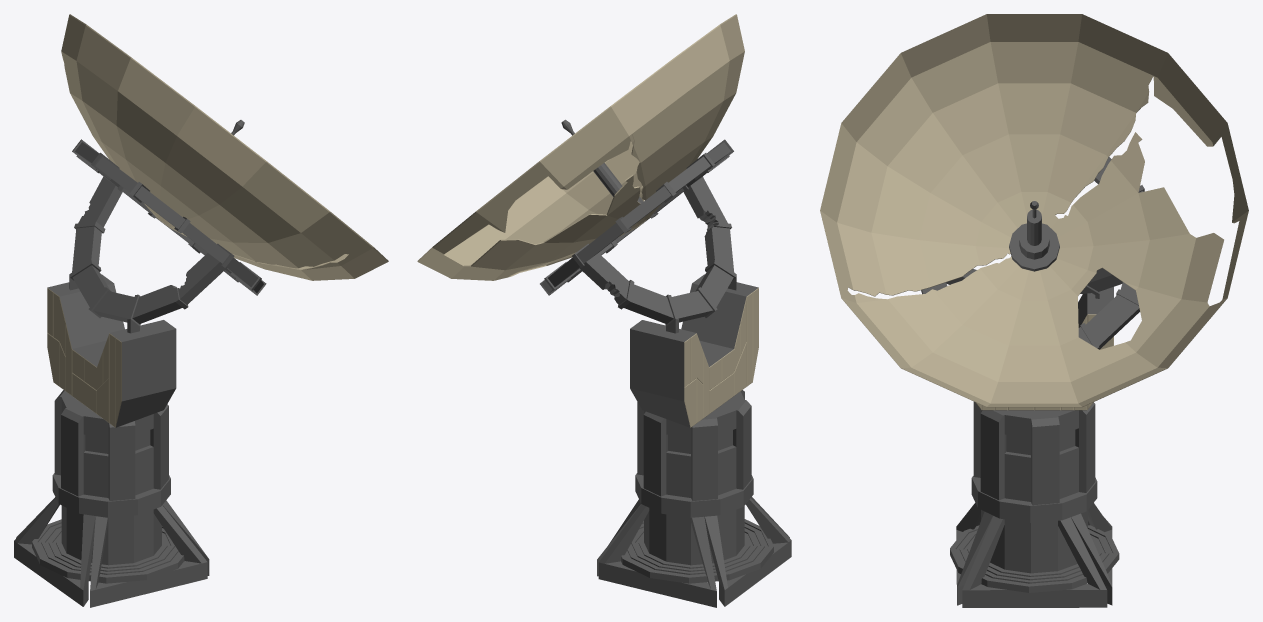
The model's file is Destroyed_Satellite_Plate.fbx.
3 renders of one model, left to right at view 1: azimuth 30°, elevation 25°; view 2: azimuth 150°, elevation 25°; view 3: azimuth 270°, elevation 25°, orthographic. The views are drawn at different scales.
Visible parts, largest first — view 1: Sphere_Rebuild, Cube, Circle.001, Cube.002, Cube.002_RPanel.001; view 2: Sphere_Rebuild, Cube, Circle.001, Cube.002, Cube.002_RPanel.001, Circle; view 3: Sphere_Rebuild, Cube, Circle.001, Circle, Cube.002, Cube.002_RPanel.001.
Boxes of the visible parts, x1,y1,x2,y2 form: Sphere_Rebuild: (61,14,388,280); Cube: (14,390,209,607); Circle.001: (69,139,266,333); Cube.002: (47,274,176,427); Cube.002_RPanel.001: (47,288,121,427); Sphere_Rebuild: (417,14,744,280); Cube: (597,390,791,607); Circle.001: (540,139,736,333); Cube.002: (630,274,758,427); Cube.002_RPanel.001: (684,288,758,427); Circle: (561,119,643,203); Sphere_Rebuild: (820,14,1248,407); Cube: (950,401,1119,607); Circle.001: (921,157,1144,349); Circle: (1009,201,1059,271); Cube.002: (1078,287,1113,327); Cube.002_RPanel.001: (975,314,1113,410).
Size of the model in its own units: 1484 by 2431 by 1689.
